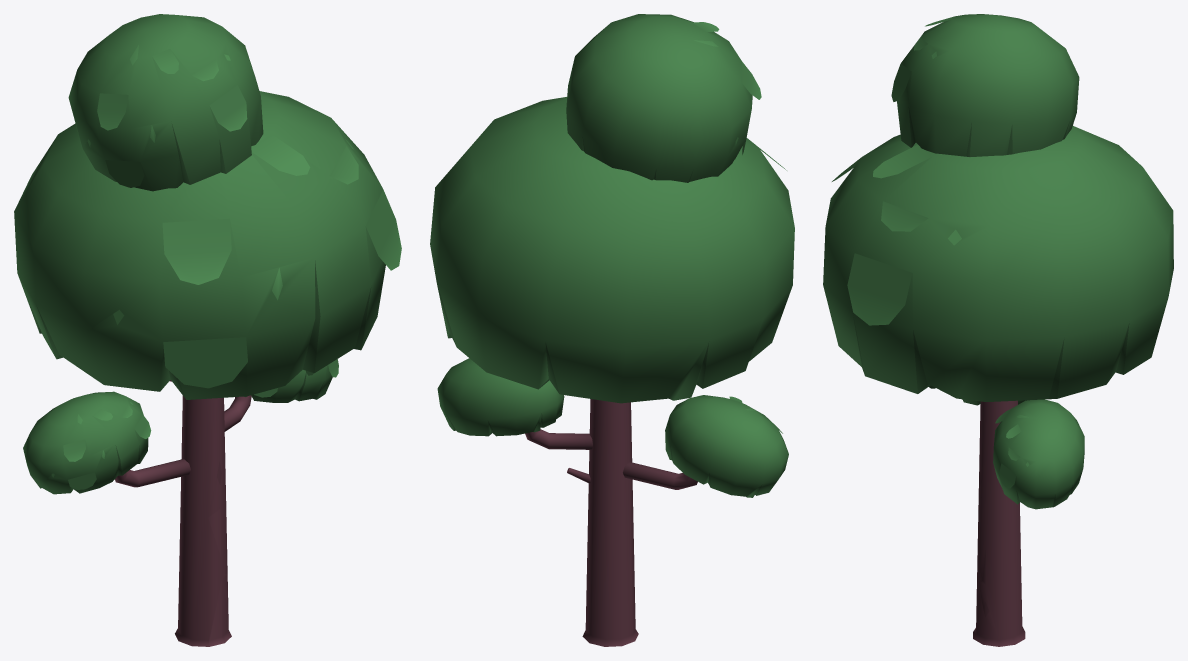
The model's file is Tree_Oak.fbx.
The picture shows the model from 3 angles, left to right: view 1: azimuth 30°, elevation 25°; view 2: azimuth 150°, elevation 25°; view 3: azimuth 270°, elevation 25°; orthographic projection. The views are drawn at different scales.
Parts seen in each view (by area): view 1: Tree_Oak; view 2: Tree_Oak; view 3: Tree_Oak.
Boxes of the visible parts, x1,y1,x2,y2 form: Tree_Oak: [14, 14, 401, 646]; Tree_Oak: [430, 14, 794, 646]; Tree_Oak: [823, 14, 1173, 646].
Size of the model in its own units: 10.61 by 18.85 by 10.07.
